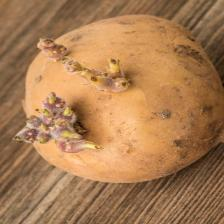Sprouted potato: (5, 8, 224, 187)
